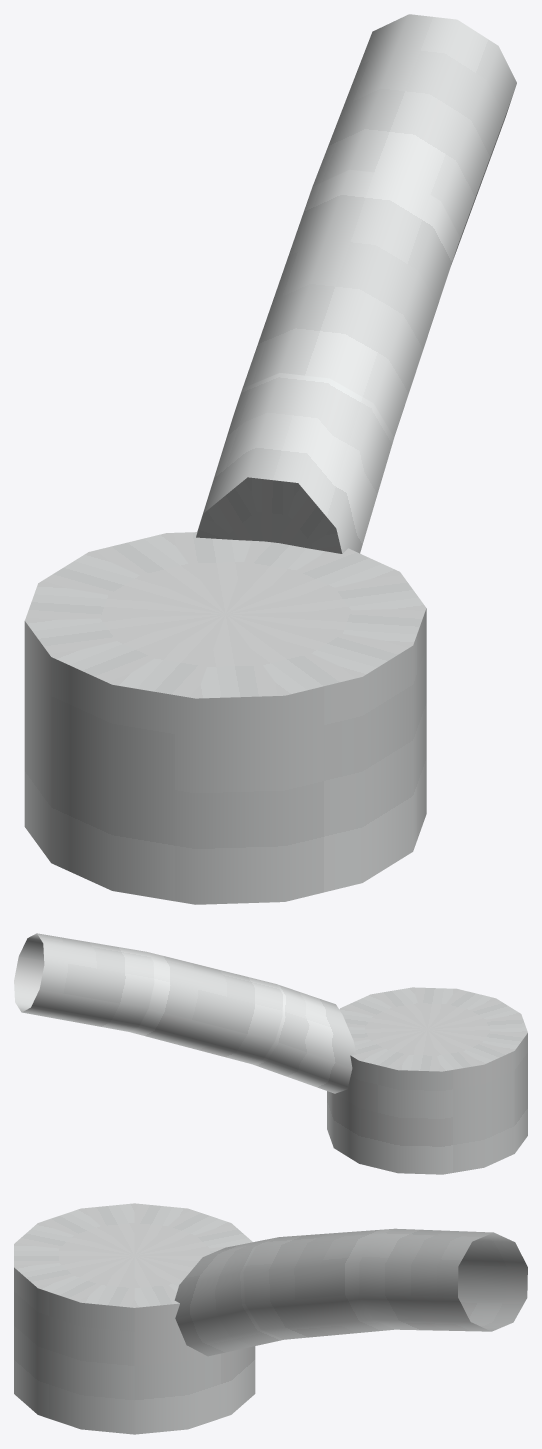
The model's file is nycsignalarm_diagonal6_c1.obj.
The picture shows the model from 3 angles, top to bottom: view 1: azimuth 30°, elevation 25°; view 2: azimuth 150°, elevation 25°; view 3: azimuth 270°, elevation 25°; orthographic projection. The views are drawn at different scales.
Visible parts, largest first — view 1: nycsignalarm_diagonal6_c1; view 2: nycsignalarm_diagonal6_c1; view 3: nycsignalarm_diagonal6_c1.
Boxes of the visible parts, box(x1,y1,x2,y2) form: nycsignalarm_diagonal6_c1: box(24, 14, 516, 904); nycsignalarm_diagonal6_c1: box(14, 933, 527, 1174); nycsignalarm_diagonal6_c1: box(14, 1203, 527, 1434).
Size of the model in its own units: 1.71 by 1.07 by 1.7.
